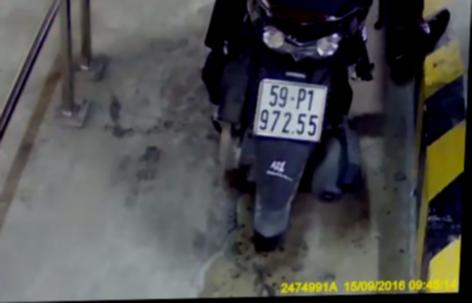License_Plate: (248, 73, 331, 147)
